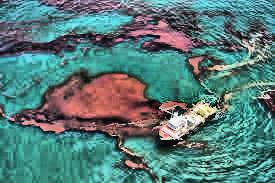truecolor: (9, 73, 163, 138), (0, 14, 207, 56)
